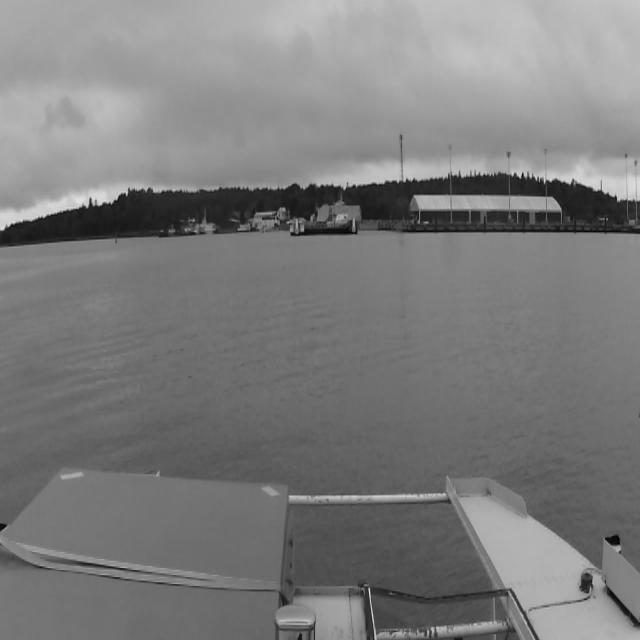buoy: (112, 228, 121, 244)
ship: (175, 215, 198, 238), (198, 217, 216, 235), (160, 223, 176, 237)
